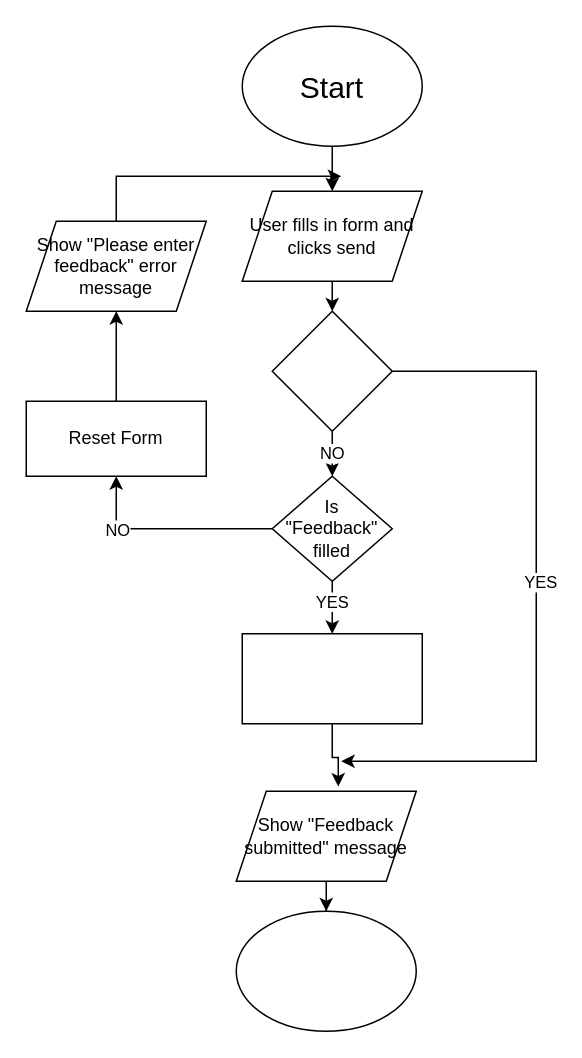
Image size: 582x1058. Some labels were removed from this diagram. The shapes that lost their labels are listed below. From the top down, each one's centre as x and y in pixels, then its label:
At (x=331, y=370): "is honeypot field filled ?".
At (x=331, y=678): "Send Formatted Email using EmailJS".
At (x=325, y=970): "End".
